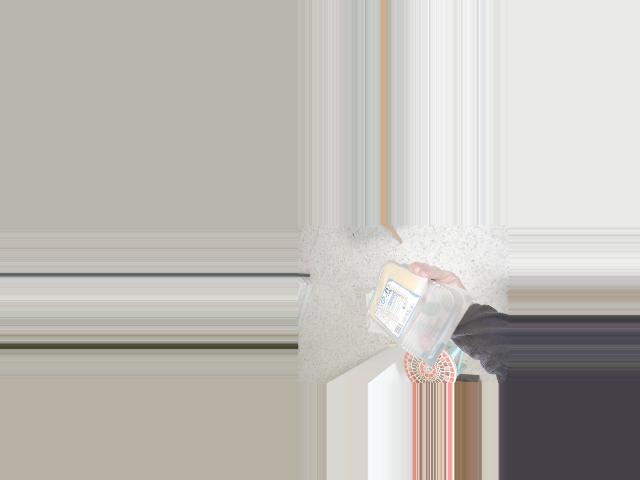cheese: (358, 274, 465, 367)
